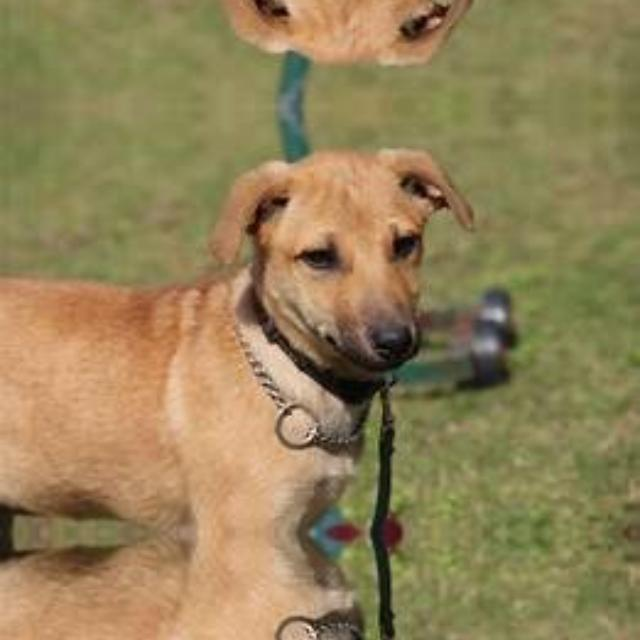dog: (147, 138, 496, 440), (146, 0, 495, 74), (146, 626, 495, 640)
